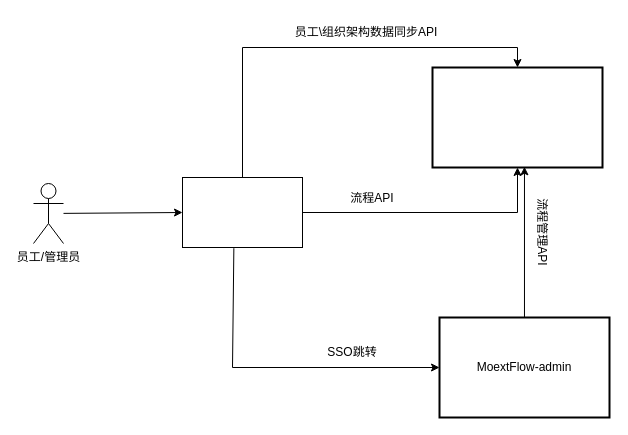
Some shapes in this 628 by 435 pixel diagram are drawn without their labels. The shapes that lost their labels are listed below. From the top down, each one's centre as x and y in pixels, then its label:
At point 517,117: "MoextFlow工作流".
At point 242,212: "业务系统".
